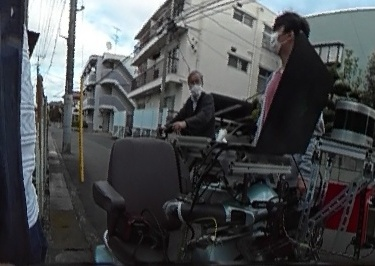person: (165, 67, 217, 135)
